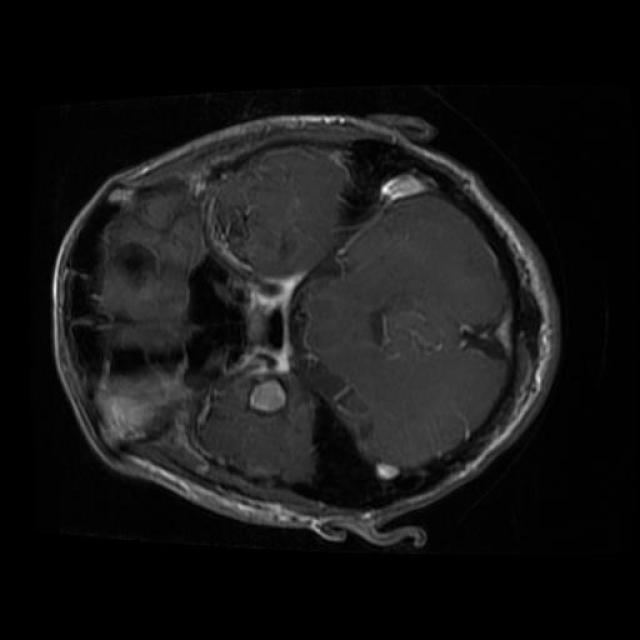Glioma: (247, 367, 290, 416)
